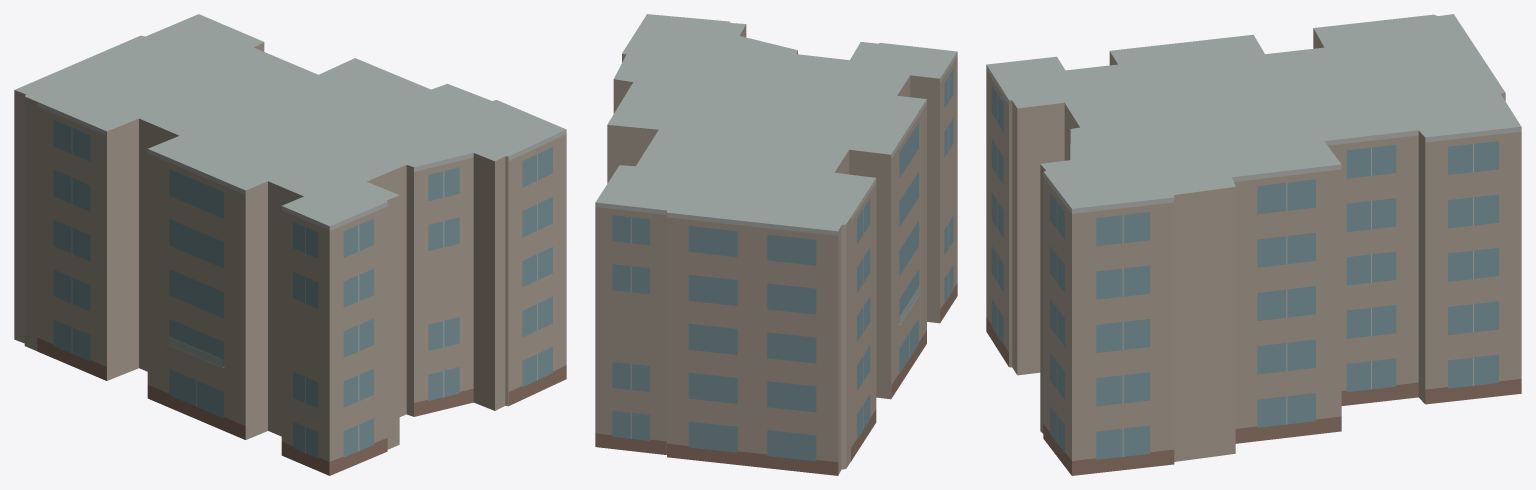
The model's file is survey-upis-32710415.glb.
3 renders of one model, left to right at view 1: azimuth 30°, elevation 25°; view 2: azimuth 150°, elevation 25°; view 3: azimuth 270°, elevation 25°, orthographic. The views are drawn at different scales.
Visible parts, largest first — view 1: survey-upis-32710415.tmp; view 2: survey-upis-32710415.tmp; view 3: survey-upis-32710415.tmp.
Part boxes in pixels (<box>): survey-upis-32710415.tmp: <box>14,14,566,475</box>; survey-upis-32710415.tmp: <box>595,14,957,475</box>; survey-upis-32710415.tmp: <box>986,14,1521,475</box>.
Bounding box in the file's own units: 20.53 × 13.1 × 23.81.
